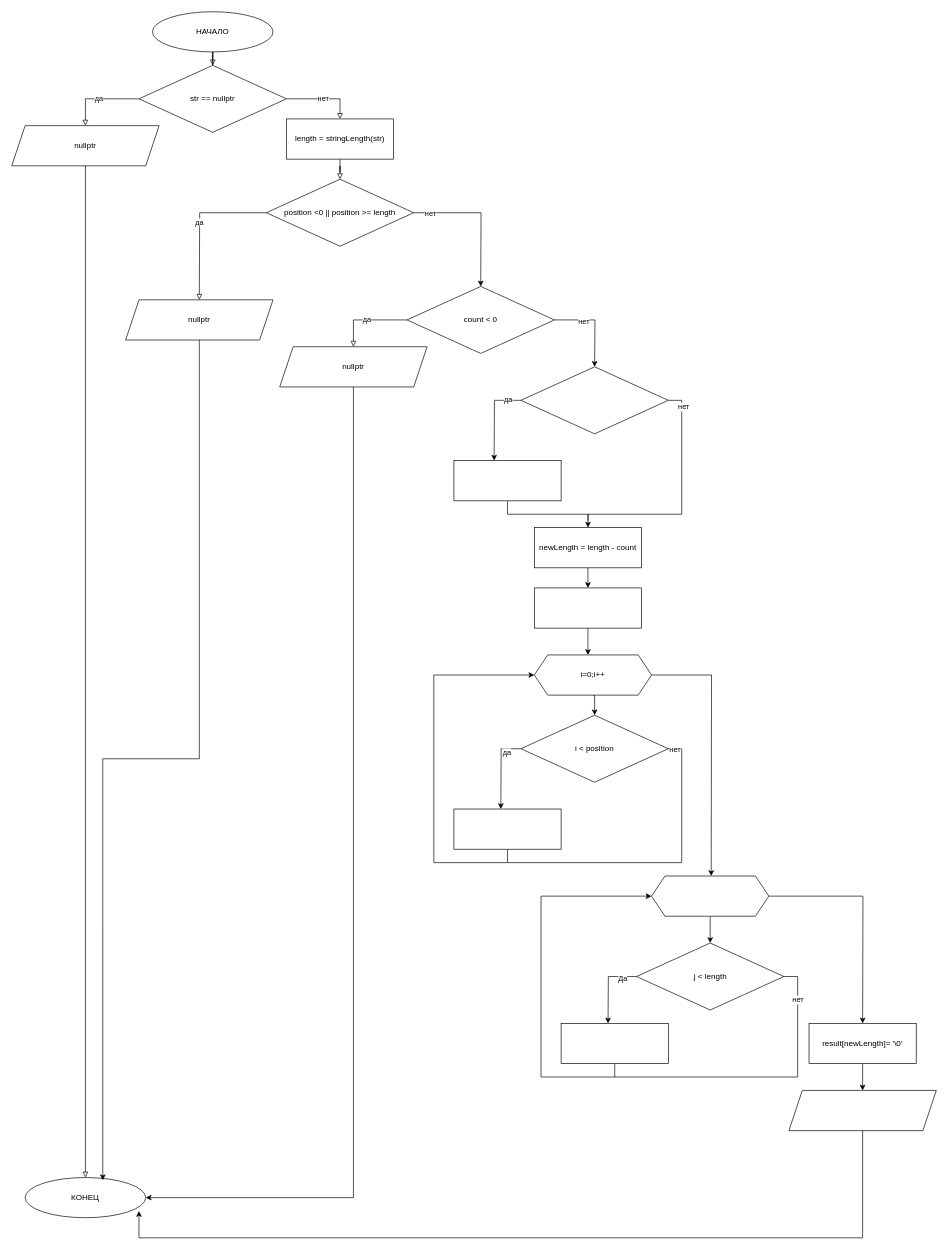
Some shapes in this 948 by 1255 pixel diagram are drawn without their labels. The centre of each missing label's shape, as x and y in pixels:
char* result = new char[newLength + 1]: point (588, 607)
count = length - position: point (507, 480)
j=position+count;j++: point (710, 895)
position + count > length: point (594, 400)
result: point (862, 1110)
result[i] = str[i]: point (507, 828)
result[i] = str[j] i++: point (614, 1043)
